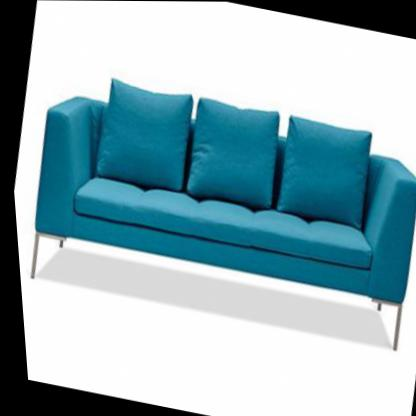Sofa: (11, 64, 416, 349)
